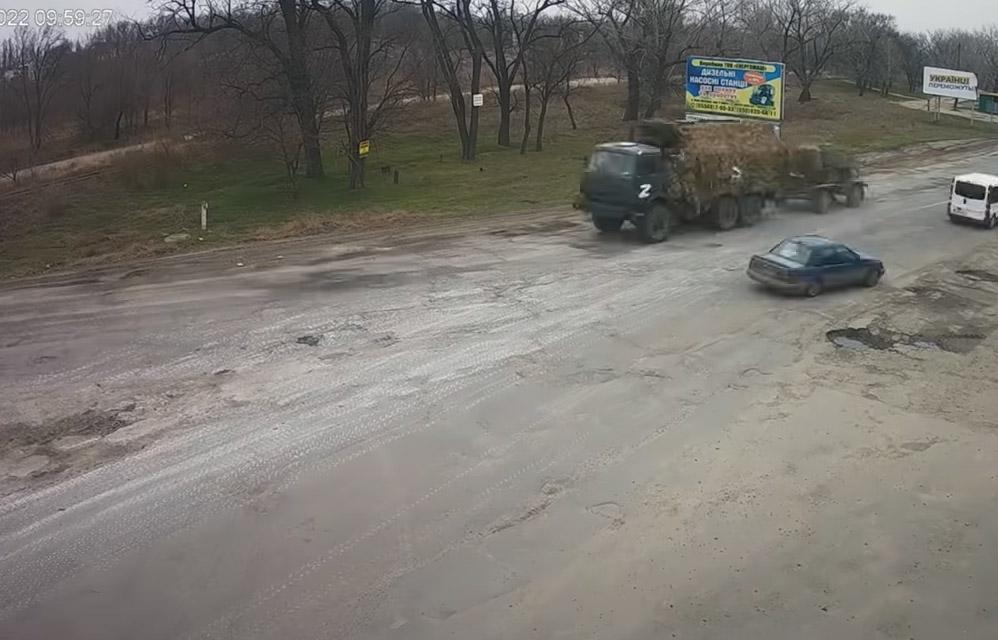car: (751, 235, 886, 297), (943, 168, 998, 238)
truck: (578, 116, 878, 246)
